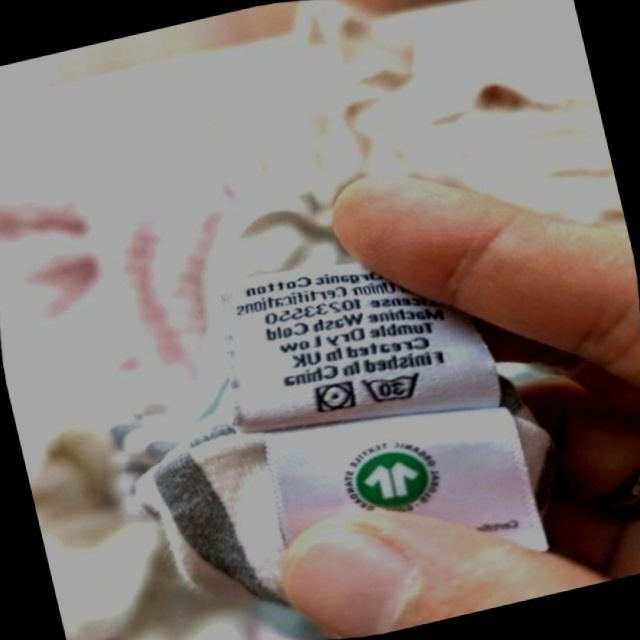30C: (353, 358, 433, 417)
tumble_dry_low: (306, 371, 364, 424)
